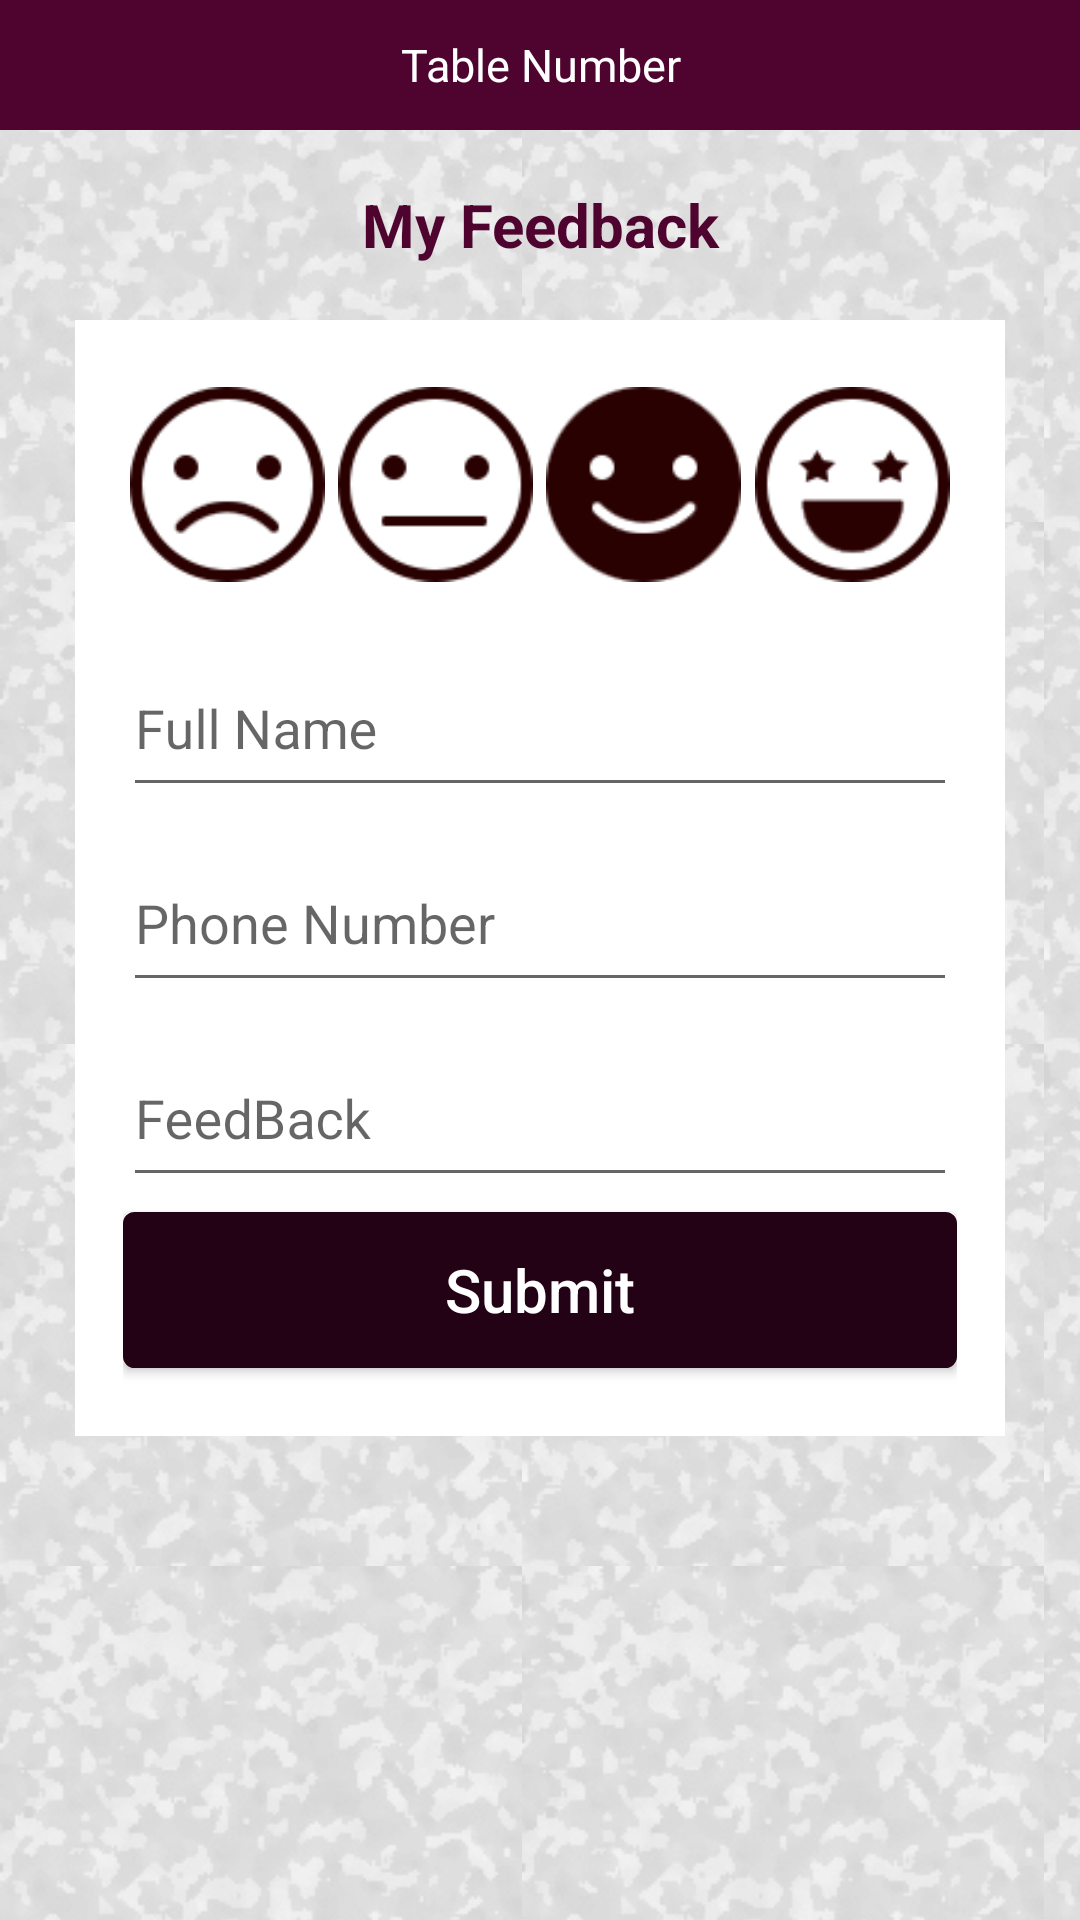

Screen size 1080×1920. Icon name, then its center in pixels as [x,y]:
average: [435,484]
ehappy: [852,484]
happy: [643,484]
sad: [227,484]
